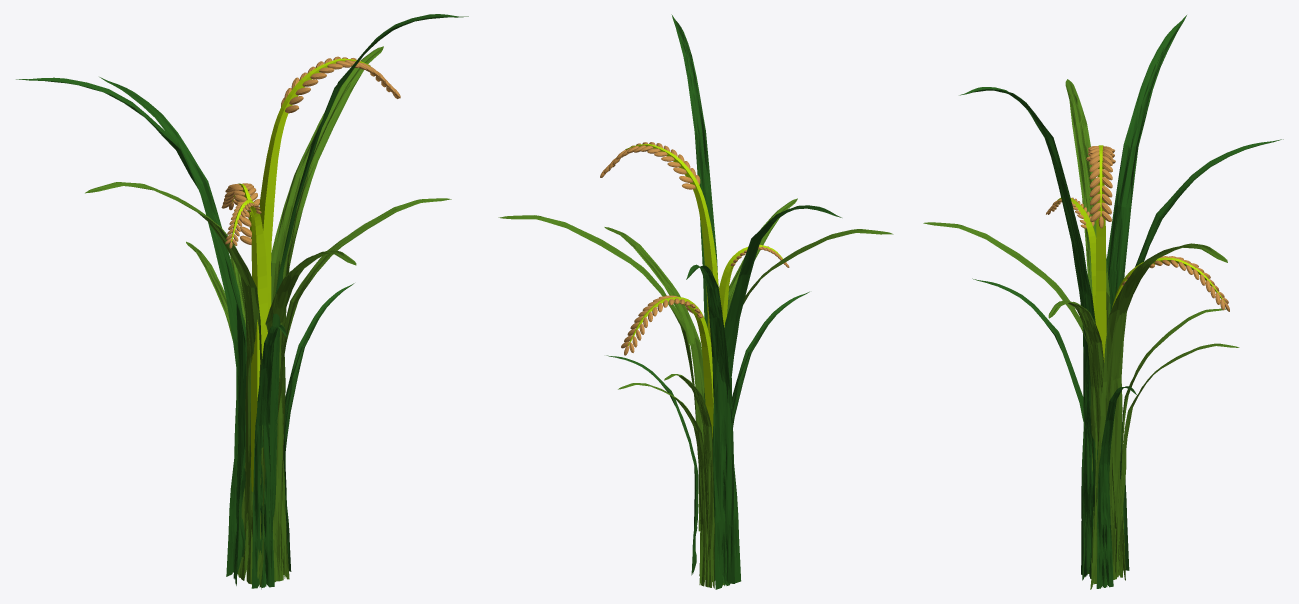
File: Padi.fbx
3 views of the same model, side by side, from view 1: azimuth 30°, elevation 25°; view 2: azimuth 150°, elevation 25°; view 3: azimuth 270°, elevation 25° (orthographic). The views are drawn at different scales.
Visible parts, largest first — view 1: Plane.009, Plane, Plane.001, Plane.004, Plane.005, Plane.003, Plane.007, Tangkai.001, Tangkai, Plane.008, Plane.002, Plane.006; view 2: Plane.005, Plane.001, Plane.003, Plane.006, Plane.008, Plane, Tangkai, Tangkai.002, Plane.010, Plane.002, Plane.004, Plane.009 (+2 smaller); view 3: Plane, Plane.003, Plane.005, Plane.002, Plane.009, Plane.008, Plane.007, Tangkai, Plane.010, Plane.001, Plane.004, Plane.006 (+1 smaller).
Boxes of the visible parts, x1,y1,x2,y2 form: Plane.009: (85, 182, 265, 589); Plane: (271, 46, 383, 574); Plane.001: (99, 77, 246, 576); Plane.004: (251, 325, 287, 588); Plane.005: (16, 77, 246, 585); Plane.003: (268, 14, 468, 584); Plane.007: (265, 250, 356, 581); Tangkai.001: (231, 199, 267, 491); Tangkai: (259, 58, 370, 314); Plane.008: (275, 198, 451, 430); Plane.002: (283, 283, 354, 571); Plane.006: (186, 241, 232, 339); Plane.005: (713, 205, 841, 589); Plane.001: (686, 264, 734, 583); Plane.003: (671, 14, 717, 402); Plane.006: (664, 374, 714, 588); Plane.008: (604, 227, 704, 531); Plane: (498, 215, 701, 533); Tangkai: (625, 144, 718, 343); Tangkai.002: (628, 297, 713, 438); Plane.010: (618, 383, 710, 576); Plane.002: (606, 355, 698, 575); Plane.004: (732, 291, 809, 426); Plane.009: (723, 229, 893, 584); Plane: (1092, 243, 1227, 584); Plane.003: (959, 87, 1097, 578); Plane.005: (1106, 15, 1186, 570); Plane.002: (1096, 386, 1136, 588); Plane.009: (1065, 79, 1110, 573); Plane.008: (1048, 300, 1116, 528); Plane.007: (923, 222, 1097, 589); Tangkai: (1095, 145, 1106, 362); Plane.010: (1115, 343, 1239, 577); Plane.001: (1135, 139, 1283, 266); Plane.004: (972, 278, 1087, 580); Plane.006: (1121, 308, 1225, 580).
Bounding box in the file's own units: 145 × 208 × 126.
